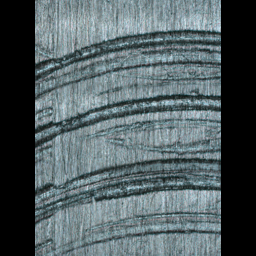d: (35, 28, 220, 247)
